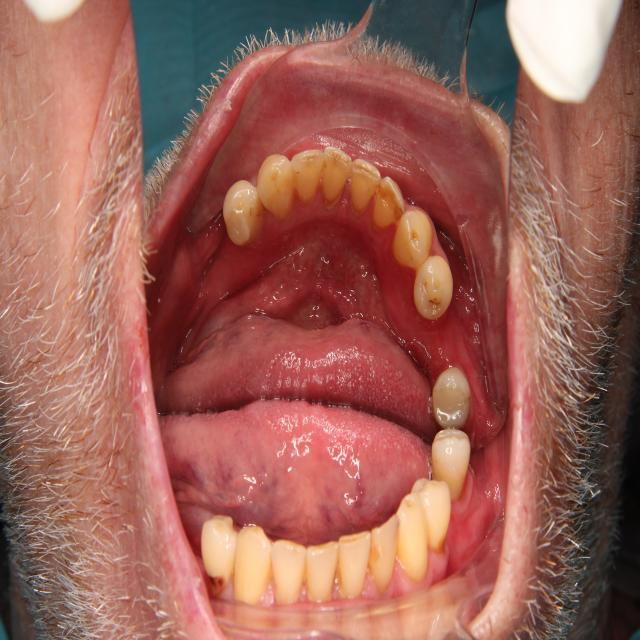tooth: (220, 176, 275, 251), (389, 198, 439, 275), (410, 242, 453, 323), (256, 145, 297, 225), (429, 356, 473, 430), (317, 132, 354, 219), (371, 164, 407, 240), (287, 143, 326, 208), (347, 151, 381, 225)
